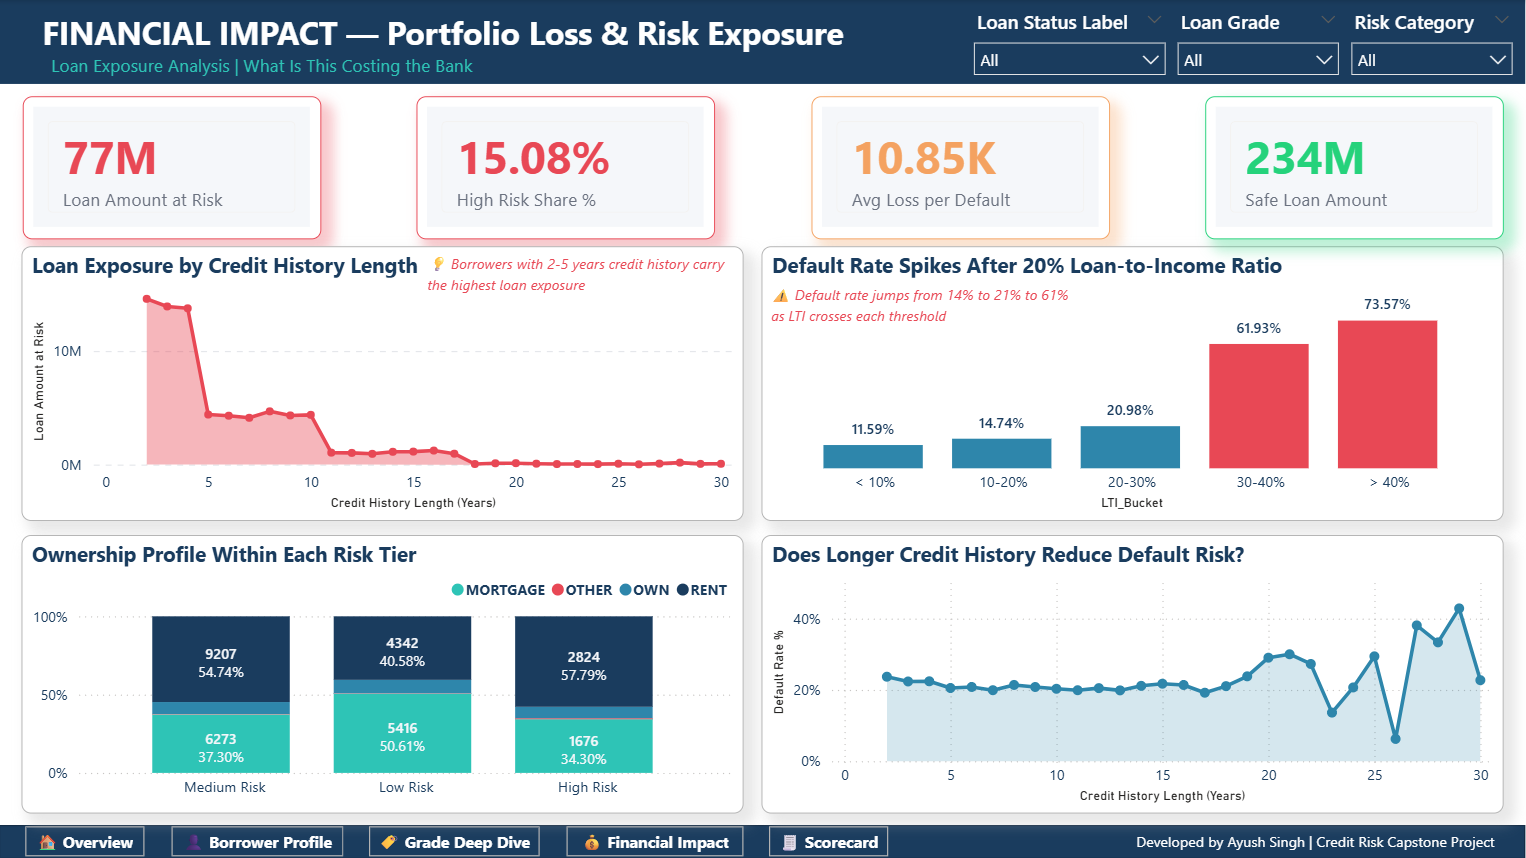

The dashboard page shown, as its layout file describes it:
{"tool":"powerbi","page":{"name":"Financial Impact","canvas":[1280,720],"ordinal":3},"visuals":[{"type":"group","id":"g1","title":"Group 1","box":[0,690.5,1280,29.5],"z":0},{"type":"shape","box":[0,691.6,1280,28.4],"z":0,"group":"g1"},{"type":"shape","box":[0,0,1280,70.5],"z":1000},{"type":"actionButton","box":[144.2,692.6,144.2,25.3],"z":1000,"group":"g1"},{"type":"textbox","box":[31.4,4.7,682.6,68.6],"z":2000},{"type":"actionButton","box":[22.1,692.6,100,25.3],"z":2000,"group":"g1"},{"type":"textbox","box":[38.4,39.5,365.1,30.2],"z":3000},{"type":"actionButton","box":[310.5,692.6,143.2,25.3],"z":3000,"group":"g1"},{"type":"slicer","fields":{"Values":["credit_risk_cleaned.risk_category"]},"box":[1124.2,2.5,155.8,65.3],"z":4000},{"type":"actionButton","box":[475.7,692.6,148.4,25.3],"z":4000,"group":"g1"},{"type":"slicer","fields":{"Values":["credit_risk_cleaned.loan_grade"]},"box":[978.4,1.9,155.8,66.3],"z":5000},{"type":"actionButton","box":[646.3,692.6,100,25.3],"z":5000,"group":"g1"},{"type":"slicer","fields":{"Values":["credit_risk_cleaned.loan_status_label"]},"box":[807.4,1.9,181.1,66.3],"z":6000},{"type":"textbox","box":[948.4,690.5,312.6,28.4],"z":6000,"group":"g1"},{"type":"cardVisual","fields":{"Data":["_Measures.Loan Amount at Risk"]},"box":[19.8,80.2,250,119.8],"z":7000},{"type":"cardVisual","fields":{"Data":["_Measures.Avg Loss per Default"]},"box":[681,80.2,250,119.8],"z":8000},{"type":"cardVisual","fields":{"Data":["_Measures.High Risk Share %"]},"box":[350.4,80.2,250,119.8],"z":9000},{"type":"areaChart","title":"Loan Exposure by Credit History Length","fields":{"Category":["credit_risk_cleaned.cb_person_cred_hist_length"],"Y":["_Measures.Loan Amount at Risk"]},"box":[18.6,207,605.8,230.2],"z":10000},{"type":"clusteredColumnChart","title":"Default Rate Spikes After 20% Loan-to-Income Ratio","fields":{"Category":["credit_risk_cleaned.LTI_Bucket"],"Y":["_Measures.Default Rate %"]},"box":[639.5,207,622.1,230.2],"z":11000},{"type":"hundredPercentStackedColumnChart","title":"Ownership Profile Within Each Risk Tier","fields":{"Category":["credit_risk_cleaned.risk_category"],"Y":["CountNonNull(credit_risk_cleaned.loan_status)"],"Series":["credit_risk_cleaned.person_home_ownership"]},"box":[18.6,448.8,605.8,233.7],"z":12000},{"type":"lineChart","title":"Does Longer Credit History Reduce Default Risk?","fields":{"Category":["credit_risk_cleaned.cb_person_cred_hist_length"],"Y":["_Measures.Default Rate %"]},"box":[639.5,448.8,622.1,233.7],"z":13000},{"type":"textbox","box":[354.7,207,261.6,50],"z":14000},{"type":"textbox","box":[643,232.6,261.6,50],"z":15000},{"type":"cardVisual","fields":{"Data":["_Measures.Safe Loan Amount"]},"box":[1011.6,80.2,250,119.8],"z":16000}]}

Visuals, with their boxes in screenshot pixels (x1, y1, x2, y2), scaled from the page's 1280x720 canvas onto the 1526x858 screenshot:
"Group 1" group: (x1=0, y1=823, x2=1525, y2=857)
shape: (x1=0, y1=824, x2=1525, y2=857)
shape: (x1=0, y1=0, x2=1525, y2=84)
actionButton: (x1=172, y1=825, x2=344, y2=855)
textbox: (x1=37, y1=6, x2=851, y2=87)
actionButton: (x1=26, y1=825, x2=146, y2=855)
textbox: (x1=46, y1=47, x2=481, y2=83)
actionButton: (x1=370, y1=825, x2=541, y2=855)
slicer - credit_risk_cleaned.risk_category: (x1=1340, y1=3, x2=1525, y2=81)
actionButton: (x1=567, y1=825, x2=744, y2=855)
slicer - credit_risk_cleaned.loan_grade: (x1=1166, y1=2, x2=1352, y2=81)
actionButton: (x1=771, y1=825, x2=890, y2=855)
slicer - credit_risk_cleaned.loan_status_label: (x1=963, y1=2, x2=1178, y2=81)
textbox: (x1=1131, y1=823, x2=1503, y2=857)
cardVisual - _Measures.Loan Amount at Risk: (x1=24, y1=96, x2=322, y2=238)
cardVisual - _Measures.Avg Loss per Default: (x1=812, y1=96, x2=1110, y2=238)
cardVisual - _Measures.High Risk Share %: (x1=418, y1=96, x2=716, y2=238)
"Loan Exposure by Credit History Length" areaChart: (x1=22, y1=247, x2=744, y2=521)
"Default Rate Spikes After 20% Loan-to-Income Ratio" clusteredColumnChart: (x1=762, y1=247, x2=1504, y2=521)
"Ownership Profile Within Each Risk Tier" hundredPercentStackedColumnChart: (x1=22, y1=535, x2=744, y2=813)
"Does Longer Credit History Reduce Default Risk?" lineChart: (x1=762, y1=535, x2=1504, y2=813)
textbox: (x1=423, y1=247, x2=735, y2=306)
textbox: (x1=767, y1=277, x2=1078, y2=337)
cardVisual - _Measures.Safe Loan Amount: (x1=1206, y1=96, x2=1504, y2=238)
